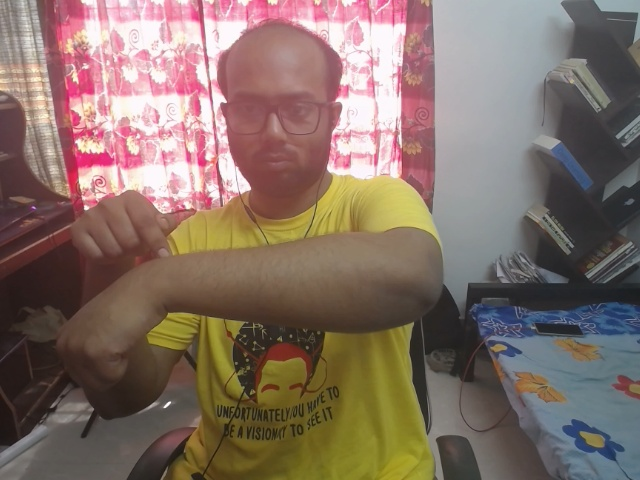time: (44, 174, 245, 400)
